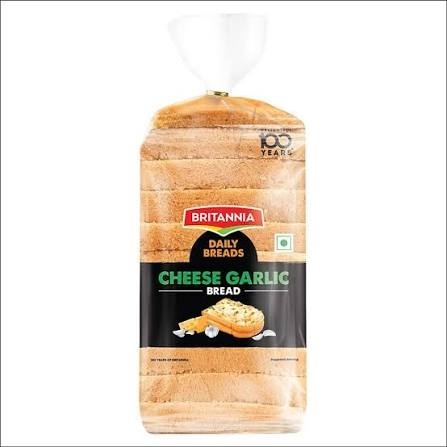Britannaia cheese garlic: (137, 6, 309, 427)
